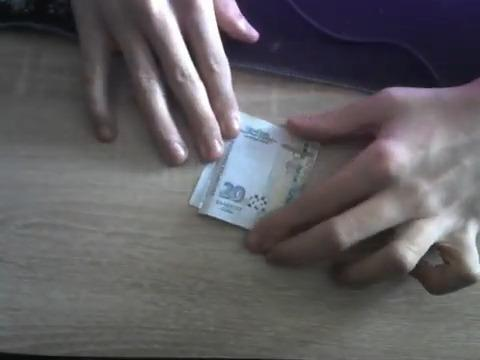20leva: (188, 113, 321, 230)
